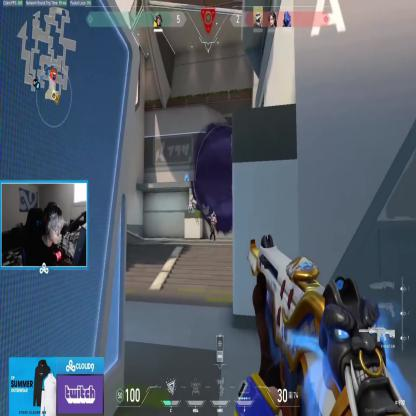enemy: (208, 210, 218, 242)
enemy_head: (213, 211, 215, 217)
